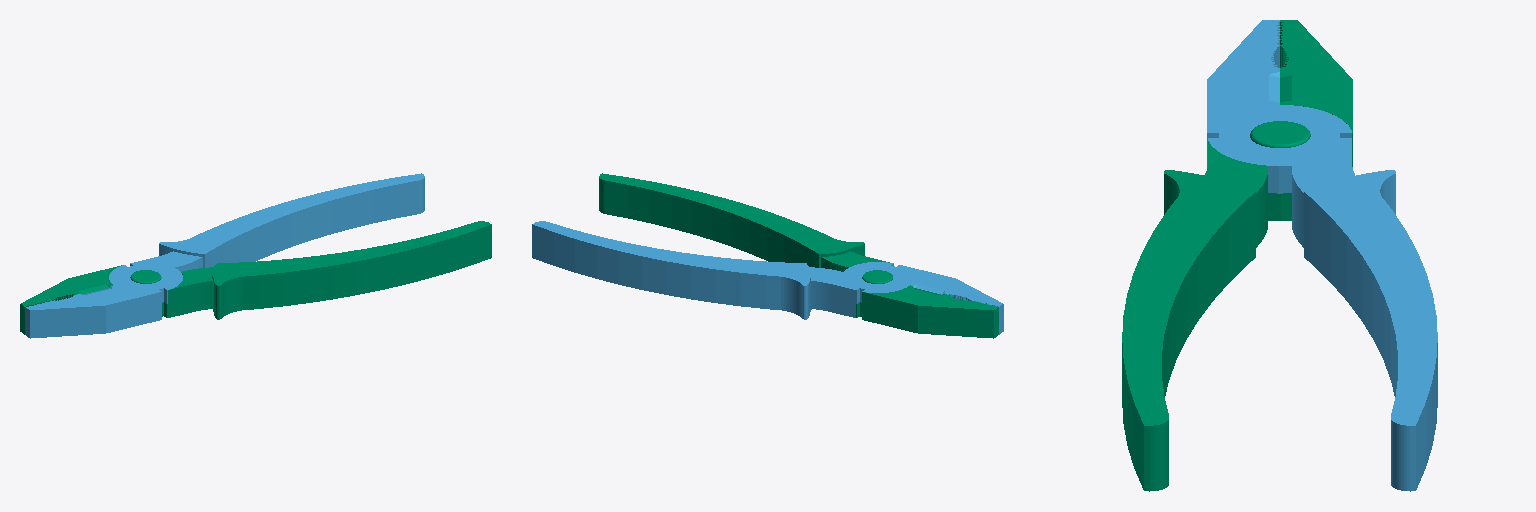
robot.urdf — partnet_uf85f3025-1643-4cef-b3ad-20a49f60a8f3:
<?xml version="1.0" ?>
<robot name="partnet_uf85f3025-1643-4cef-b3ad-20a49f60a8f3">
	<link name="base"/>
	<link name="link_0">
		<visual name="leg-1">
			<origin xyz="0 0 -0.3609746441245083"/>
			<geometry>
				<mesh filename="textured_objs/original-7.obj"/>
			</geometry>
		</visual>
		<visual name="leg-1">
			<origin xyz="0 0 -0.3609746441245083"/>
			<geometry>
				<mesh filename="textured_objs/original-8.obj"/>
			</geometry>
		</visual>
		<visual name="leg-1">
			<origin xyz="0 0 -0.3609746441245083"/>
			<geometry>
				<mesh filename="textured_objs/original-9.obj"/>
			</geometry>
		</visual>
		<collision>
			<origin xyz="0 0 -0.3609746441245083"/>
			<geometry>
				<mesh filename="textured_objs/original-7.obj"/>
			</geometry>
		</collision>
		<collision>
			<origin xyz="0 0 -0.3609746441245083"/>
			<geometry>
				<mesh filename="textured_objs/original-8.obj"/>
			</geometry>
		</collision>
		<collision>
			<origin xyz="0 0 -0.3609746441245083"/>
			<geometry>
				<mesh filename="textured_objs/original-9.obj"/>
			</geometry>
		</collision>
	</link>
	<joint name="joint_0" type="revolute">
		<origin xyz="0 0 0.3609746441245083"/>
		<axis xyz="0 1 0"/>
		<child link="link_0"/>
		<parent link="link_1"/>
		<limit lower="0.0" upper="1.7453292519943295"/>
	</joint>
	<link name="link_1">
		<visual name="base_body-2">
			<origin xyz="0 0 0"/>
			<geometry>
				<mesh filename="textured_objs/original-4.obj"/>
			</geometry>
		</visual>
		<visual name="base_body-2">
			<origin xyz="0 0 0"/>
			<geometry>
				<mesh filename="textured_objs/original-3.obj"/>
			</geometry>
		</visual>
		<visual name="base_body-2">
			<origin xyz="0 0 0"/>
			<geometry>
				<mesh filename="textured_objs/original-5.obj"/>
			</geometry>
		</visual>
		<visual name="base_body-2">
			<origin xyz="0 0 0"/>
			<geometry>
				<mesh filename="textured_objs/original-1.obj"/>
			</geometry>
		</visual>
		<collision>
			<origin xyz="0 0 0"/>
			<geometry>
				<mesh filename="textured_objs/original-4.obj"/>
			</geometry>
		</collision>
		<collision>
			<origin xyz="0 0 0"/>
			<geometry>
				<mesh filename="textured_objs/original-3.obj"/>
			</geometry>
		</collision>
		<collision>
			<origin xyz="0 0 0"/>
			<geometry>
				<mesh filename="textured_objs/original-5.obj"/>
			</geometry>
		</collision>
		<collision>
			<origin xyz="0 0 0"/>
			<geometry>
				<mesh filename="textured_objs/original-1.obj"/>
			</geometry>
		</collision>
	</link>
	<joint name="joint_1" type="fixed">
		<origin rpy="1.570796326794897 0 -1.570796326794897" xyz="0 0 0"/>
		<child link="link_1"/>
		<parent link="base"/>
	</joint>
</robot>

--- Facts derived from the render (not from the file) ---
Views: 3 orthographic renders of the robot side by side, from view 1: azimuth 30°, elevation 25°; view 2: azimuth 150°, elevation 25°; view 3: azimuth 270°, elevation 25°.
Robot: partnet_uf85f3025-1643-4cef-b3ad-20a49f60a8f3 — 3 links, 2 joints (1 revolute, 1 fixed); root link base; default pose: all joints at 0.
Visible links, largest first — view 1: link_0, link_1; view 2: link_0, link_1; view 3: link_0, link_1.
Boxes of the visible links, x1,y1,x2,y2 form: link_0: [25, 173, 424, 338]; link_1: [20, 221, 491, 334]; link_0: [532, 221, 1003, 334]; link_1: [599, 173, 998, 338]; link_0: [1207, 20, 1437, 491]; link_1: [1122, 20, 1352, 491].
Size in the robot's own frame: 1.84 by 0.5983 by 0.1376 metres.
7 mesh visuals loaded from 7 distinct referenced files (7 OBJ).
